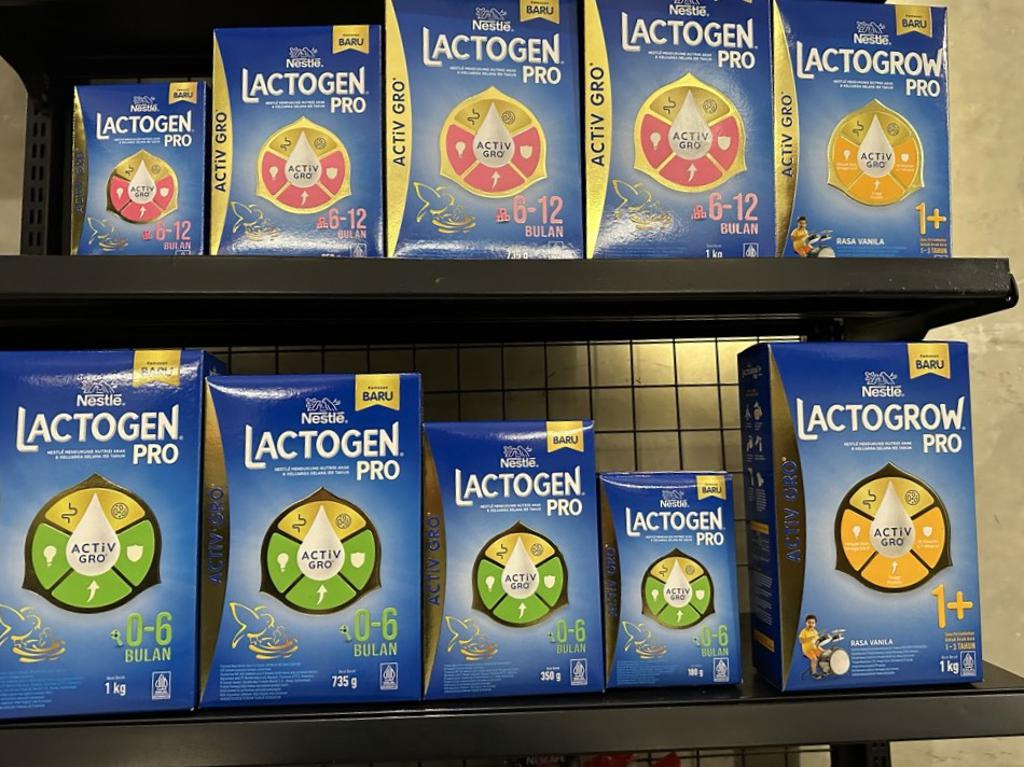LACTOGEN PRO 0-6 mo 12x1kg ID: (1, 347, 198, 712)
LACTOGEN PRO 0-6 mo 12x735g ID: (201, 370, 419, 694)
LACTOGEN PRO 0-6 mo 24x350g ID: (422, 419, 606, 693)
LACTOGEN PRO 0-6 mo 40x180g ID: (594, 471, 738, 685)
LACTOGEN PRO 6-12 mo 12x1kg ID: (582, 1, 776, 255)
LACTOGEN PRO 6-12 mo 12x735g ID: (384, 1, 584, 254)
LACTOGEN PRO 6-12 mo 24x350g ID: (208, 24, 383, 259)
LACTOGEN PRO 6-12 mo 40x180g ID: (68, 80, 203, 255)
LACTOGROW PRO 1+ Van 12x1kg ID: (764, 340, 980, 685)
LACTOGROW PRO 1+ Van 12x735g ID: (772, 1, 950, 257)
